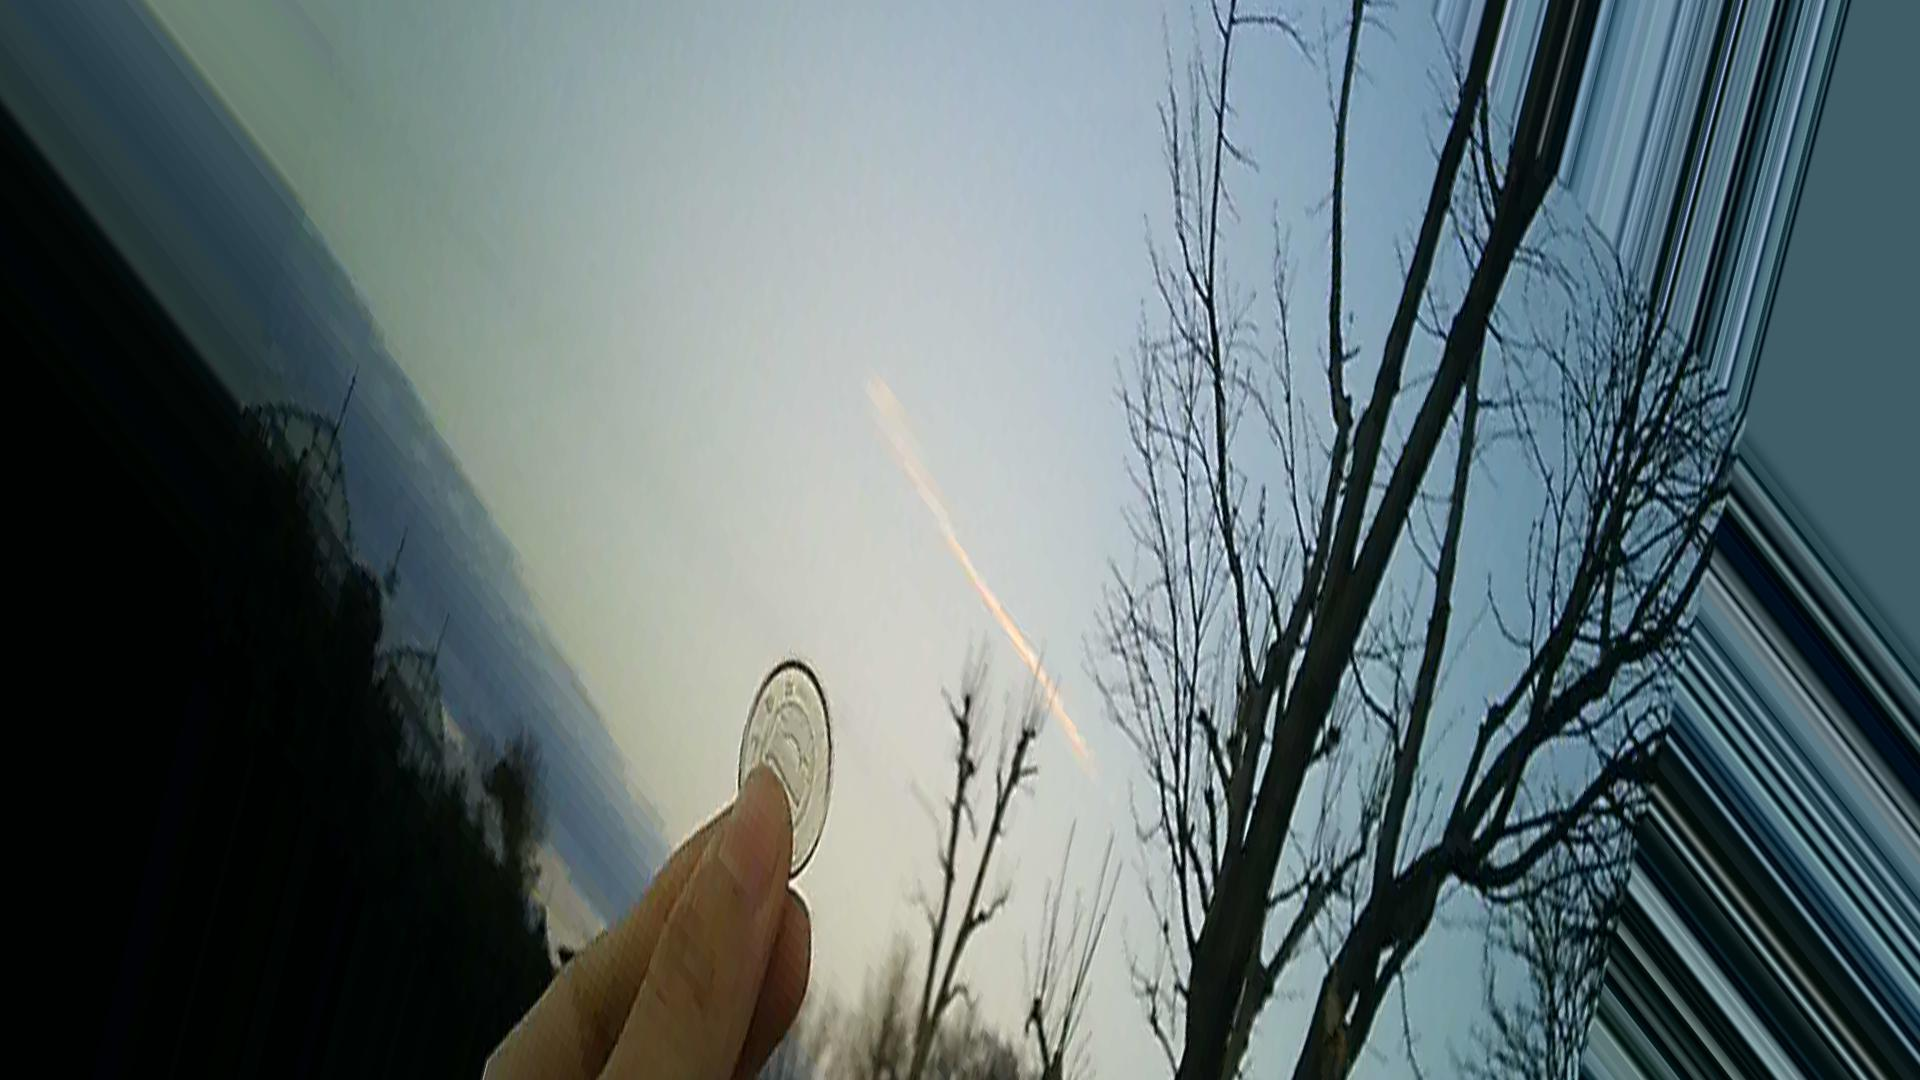1 Yen: (721, 665, 851, 880)
